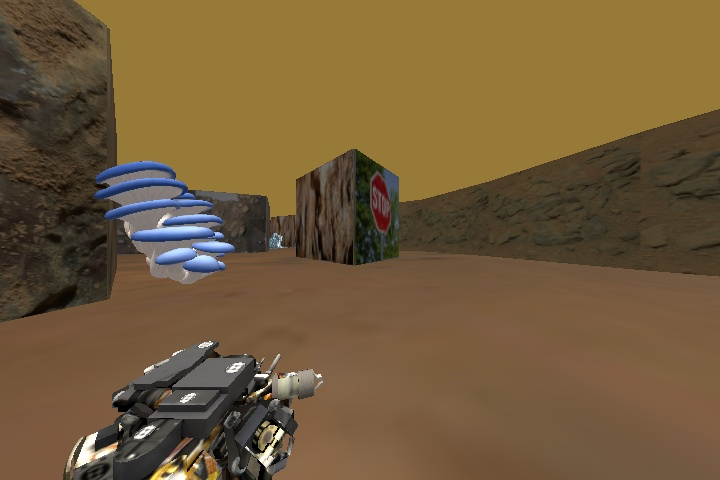minerals: (268, 232, 283, 251)
mushroom: (94, 159, 236, 284)
sign: (368, 170, 392, 232)
